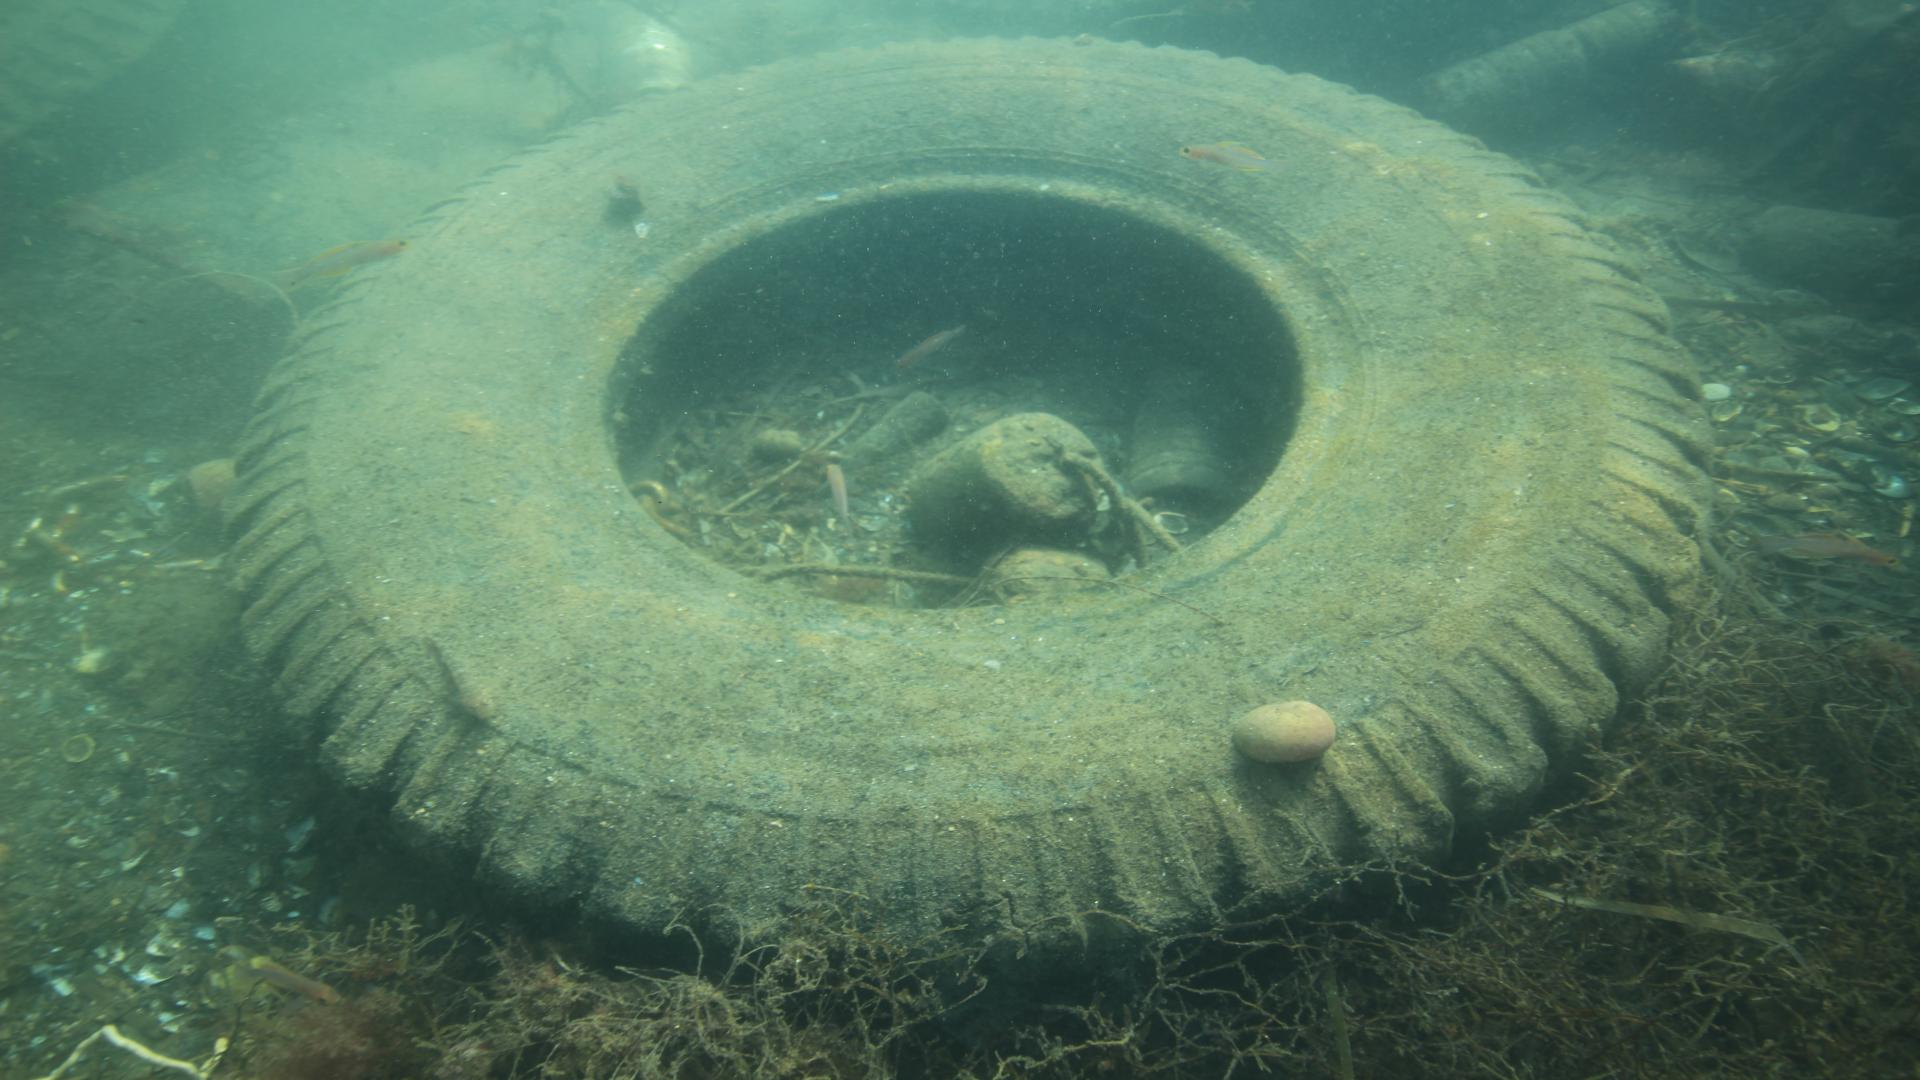tire: (225, 33, 1718, 997)
